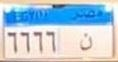6: (18, 29, 30, 51), (32, 30, 43, 53), (46, 31, 57, 53), (7, 31, 17, 54)
noon: (78, 30, 94, 52)
